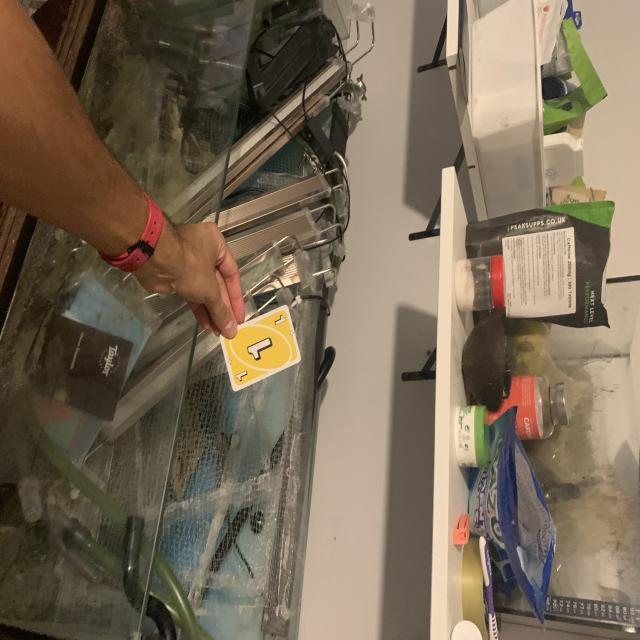lyellow-1: (269, 308, 290, 332)
